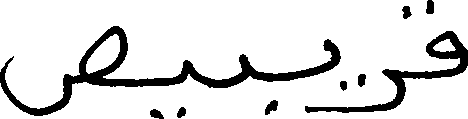ب: (236, 51, 282, 114)
ر: (373, 62, 406, 111)
ص: (0, 23, 127, 116)
ق: (400, 0, 466, 79)
ي: (149, 58, 195, 118), (321, 37, 367, 92)
